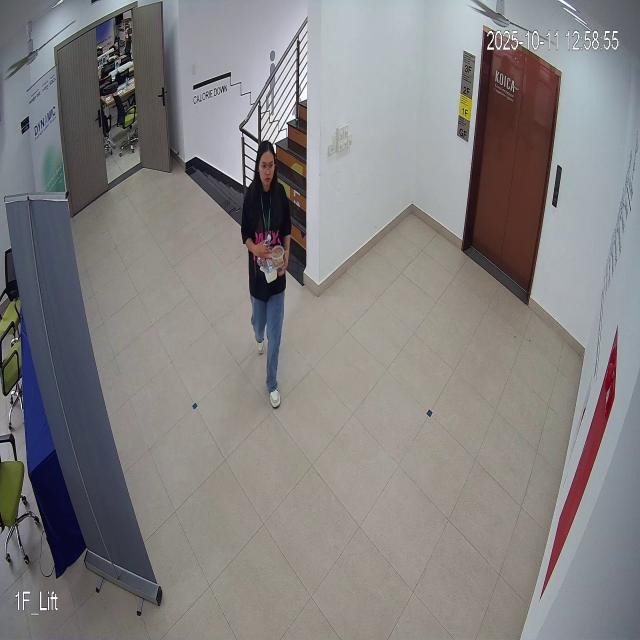face: (251, 138, 279, 192)
